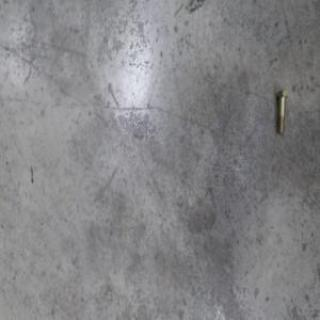Bolttrack_idkeyframe: (273, 89, 286, 135)
